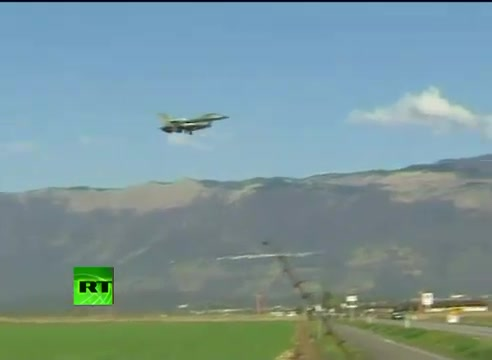aeroplane: (157, 108, 230, 136)
